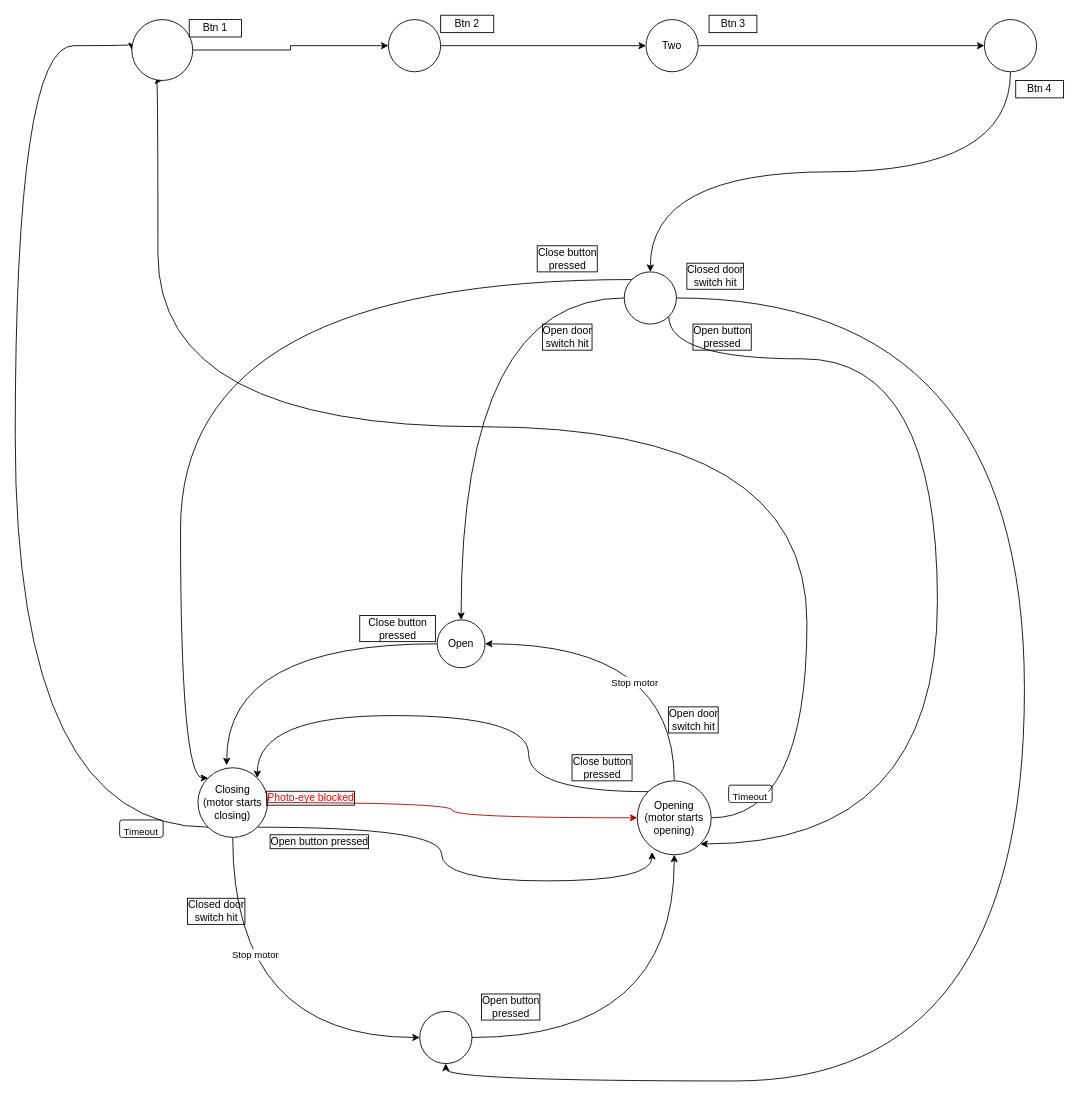
Image size: 1079x1096. Some labels were removed from this diagram. Here are the shapes that lost their labels. From the top down, the centre of each, then its label:
At point 162,49: "Locked (stop motor)".
At point 414,45: "One".
At point 1010,45: "Three".
At point 649,297: "Idle".
At point 445,1037: "Closed".
